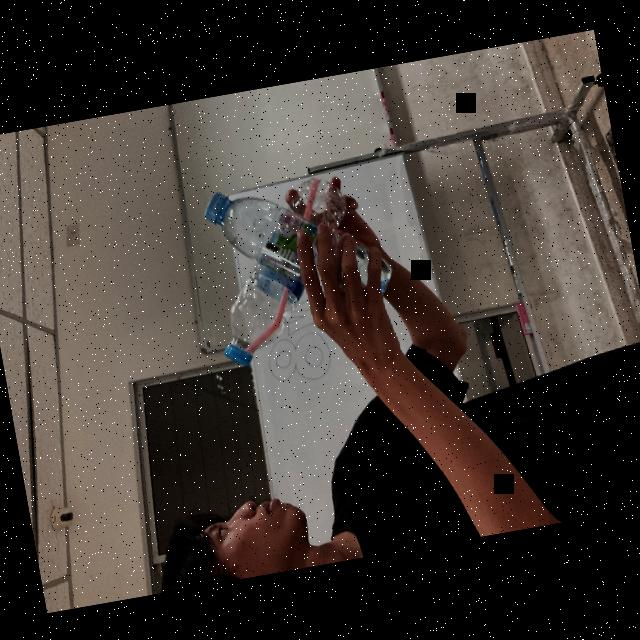plastic_bottle: (199, 165, 402, 336), (197, 172, 360, 367)
plastic_bottle_cap: (199, 190, 233, 224), (222, 340, 254, 368)
